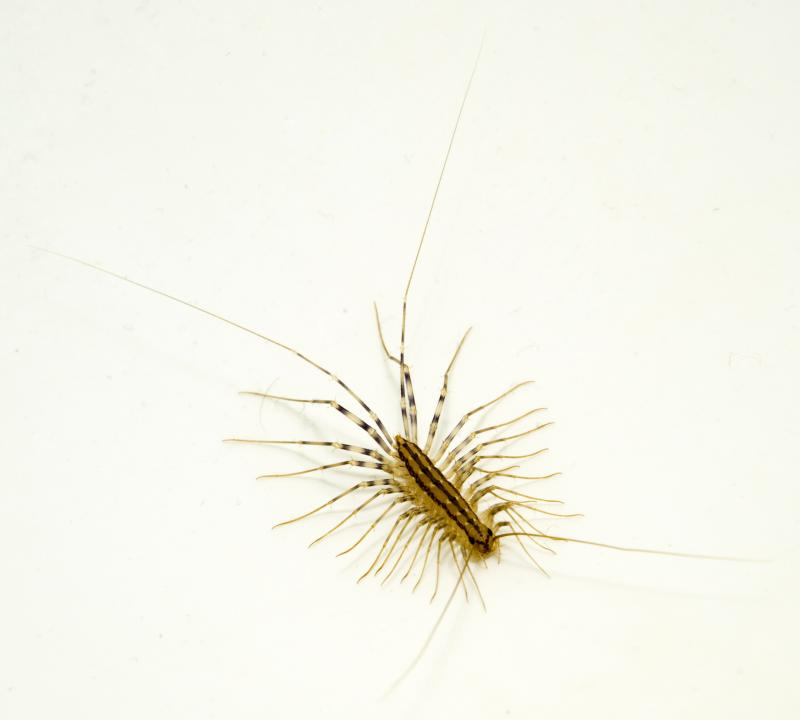centipede: (170, 247, 694, 630)
